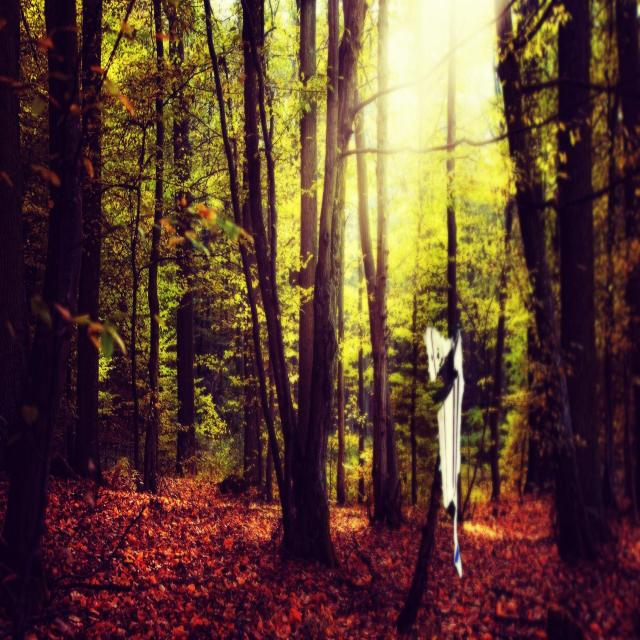airplane: (426, 325, 465, 575)
